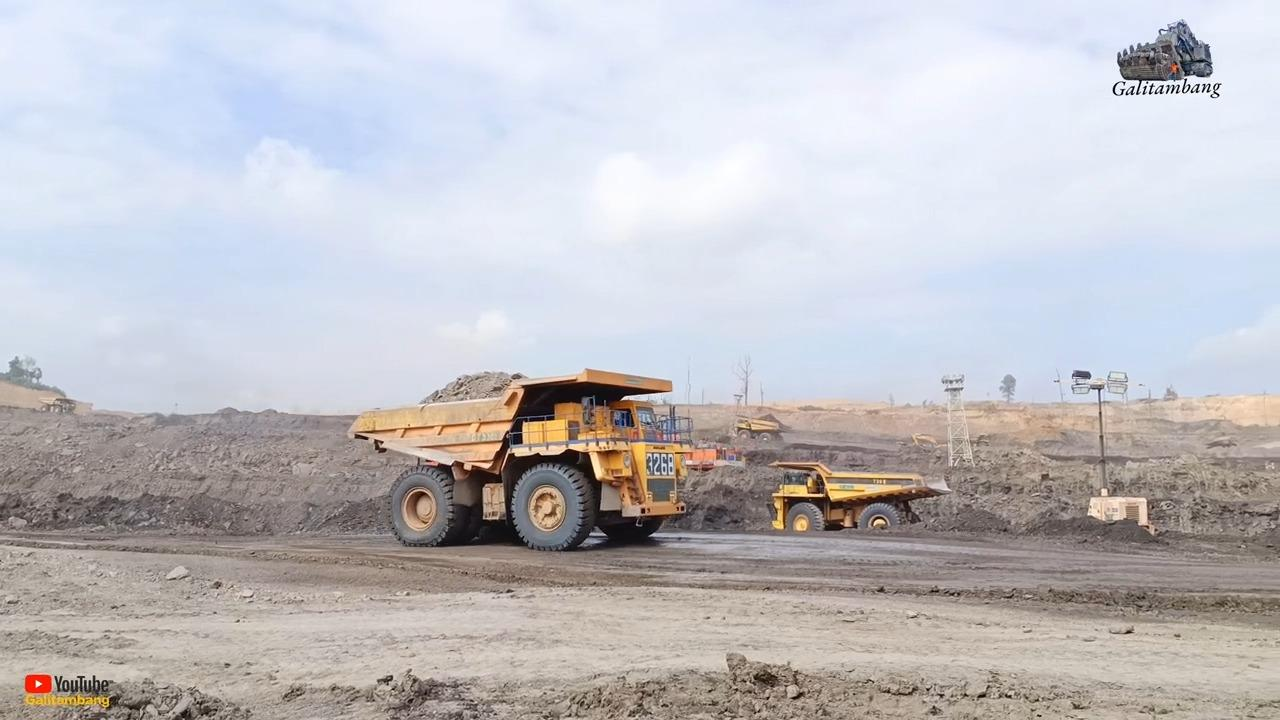HD-Truck: (350, 368, 693, 551), (770, 462, 950, 529)
